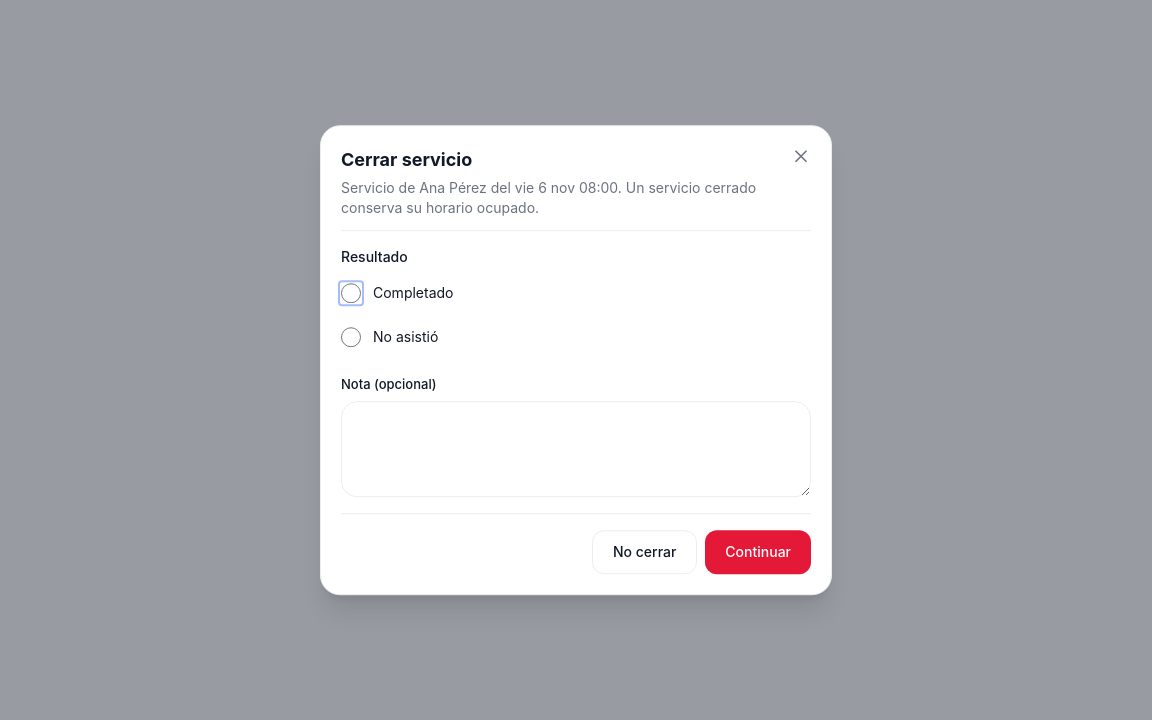
Test case: ClosureDialog: cierre normal › pide elegir el resultado antes de continuar
Click the button "Continuar" at (758, 552), box x1=705 y1=530 x2=811 y2=574
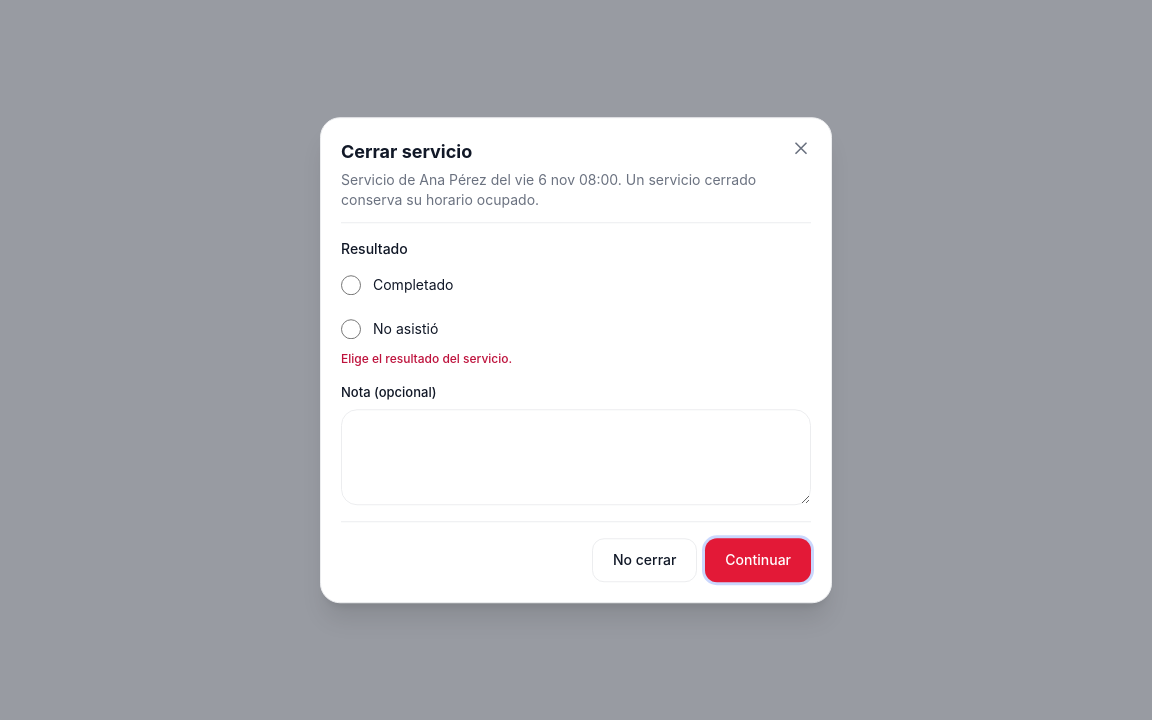
Result: the text "Elige el resultado del servicio." is shown at x1=341 y1=351 x2=512 y2=366
